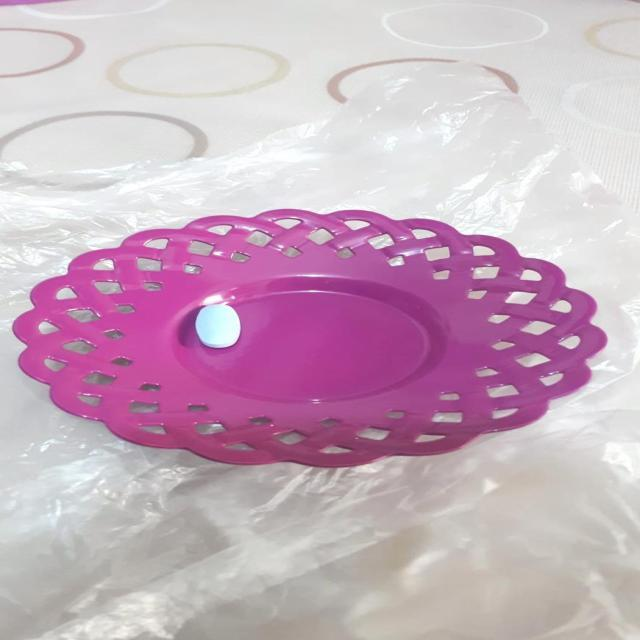pill: (195, 302, 243, 349)
